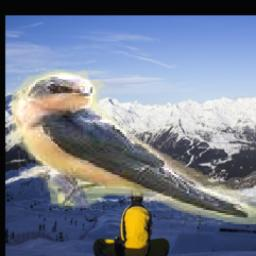Swallow: (13, 65, 256, 225)
